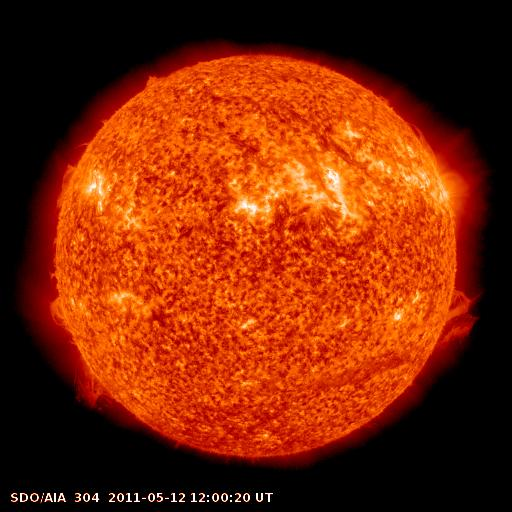prominence: (426, 284, 487, 359), (62, 356, 120, 416), (51, 132, 96, 209), (405, 114, 439, 169), (40, 224, 65, 290), (44, 296, 75, 333), (138, 65, 169, 94)
